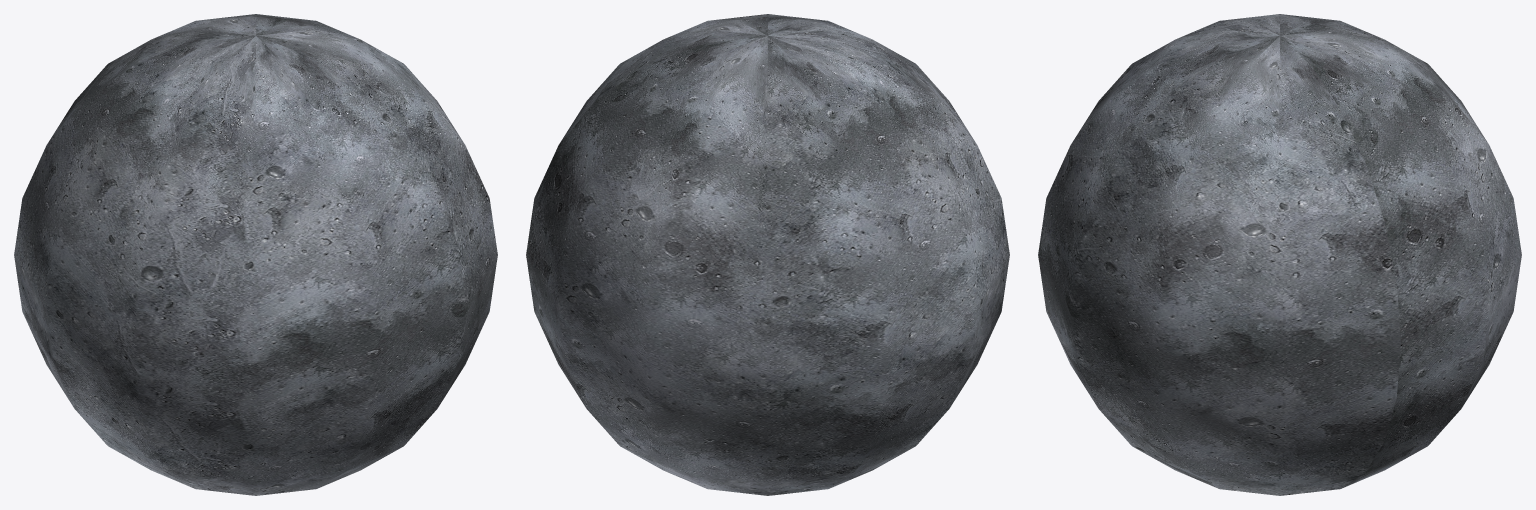
File: Star_3.dae
3 views of the same model, side by side, from view 1: azimuth 30°, elevation 25°; view 2: azimuth 150°, elevation 25°; view 3: azimuth 270°, elevation 25° (orthographic).
Visible parts, largest first — view 1: Star3; view 2: Star3; view 3: Star3.
Boxes of the visible parts, x1=… form: Star3: x1=14, y1=14, x2=497, y2=495; Star3: x1=526, y1=14, x2=1009, y2=495; Star3: x1=1038, y1=14, x2=1521, y2=495.
Size of the model in its own units: 2.31 by 2.31 by 2.31.
Materials: 1 (1 with a texture image).
